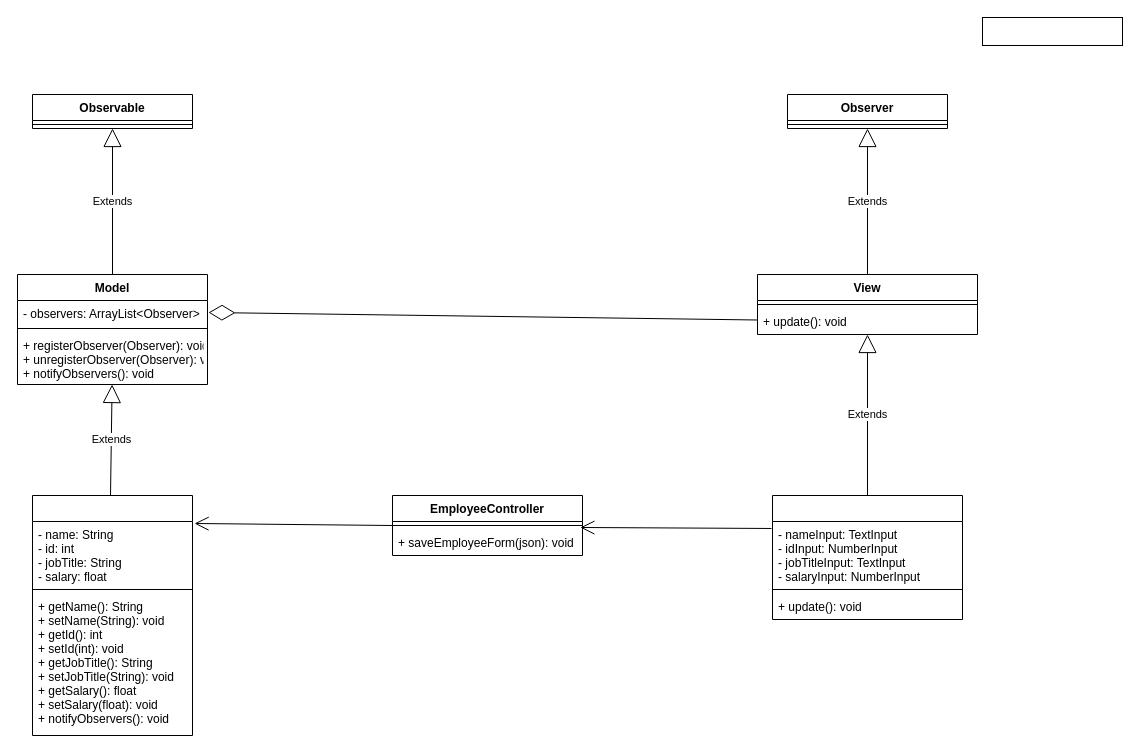
This 1140x756 diagram has some shape labels left out. The shapes that lost their labels are listed below. From the top down, each one's box as (x1, y1, x2, y2) in pixels, then its label:
(982, 16, 1122, 46): Sebastian Hattinger
(772, 494, 962, 620): EmployeeFormView
(32, 494, 192, 736): EmployeeModel
